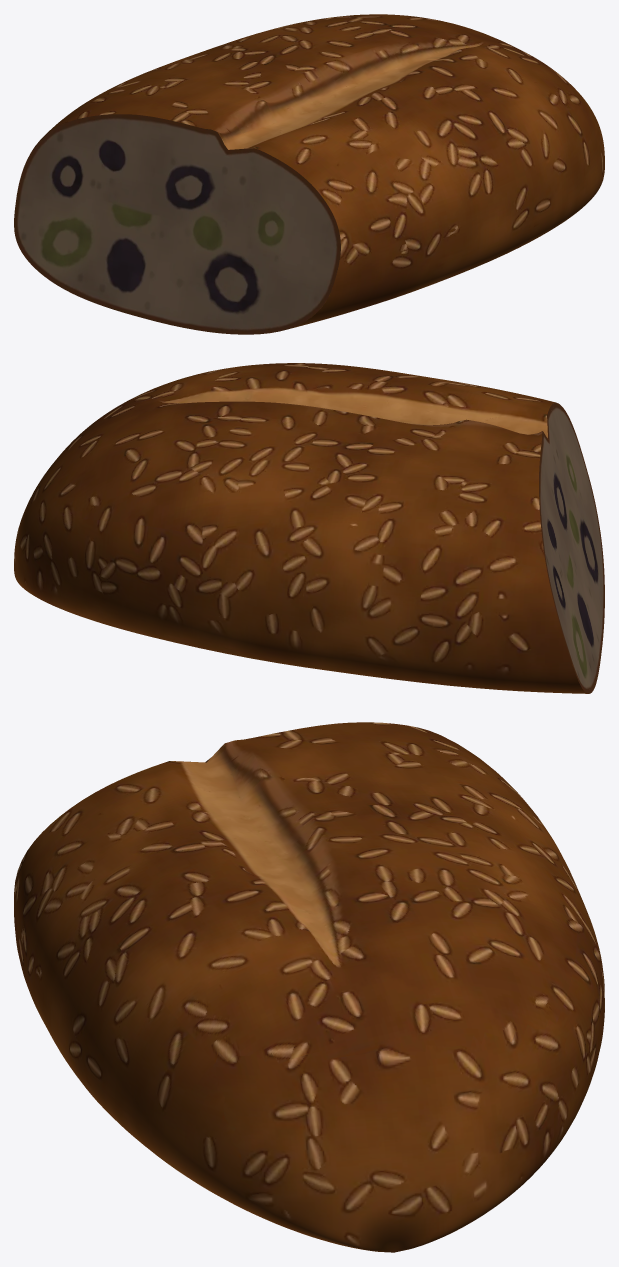
The model's file is rye--olive-flesh.glb.
The picture shows the model from 3 angles, top to bottom: view 1: azimuth 30°, elevation 25°; view 2: azimuth 150°, elevation 25°; view 3: azimuth 270°, elevation 25°; orthographic projection. The views are drawn at different scales.
Parts seen in each view (by area): view 1: rye_olive-flesh; view 2: rye_olive-flesh; view 3: rye_olive-flesh.
Part boxes in pixels (x1,y1,x2,y2): rye_olive-flesh: (14, 14, 604, 334); rye_olive-flesh: (14, 363, 604, 693); rye_olive-flesh: (14, 722, 604, 1252).
Size of the model in its own units: 0.8774 by 0.2939 by 0.6285.
Materials: 1 (1 with a texture image).
